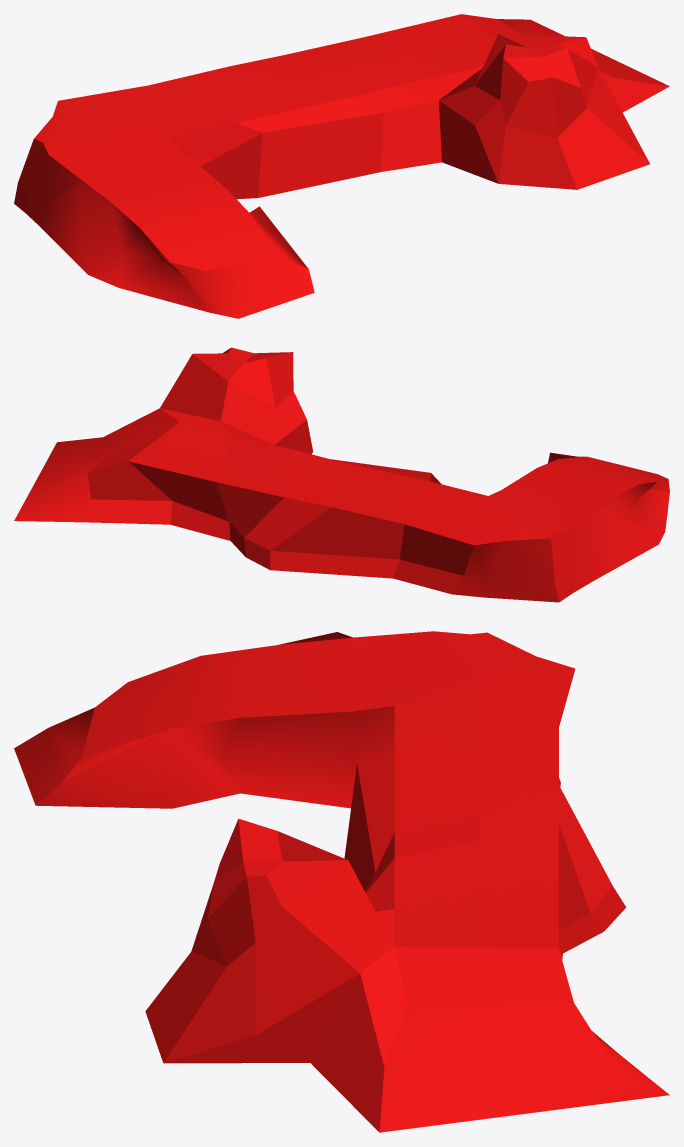
The model's file is Arena3LeftRock.FBX.
The picture shows the model from 3 angles, top to bottom: view 1: azimuth 30°, elevation 25°; view 2: azimuth 150°, elevation 25°; view 3: azimuth 270°, elevation 25°; orthographic projection. The views are drawn at different scales.
Visible parts, largest first — view 1: Arena3LeftRock; view 2: Arena3LeftRock; view 3: Arena3LeftRock.
Boxes of the visible parts, box(x1,y1,x2,y2) form: Arena3LeftRock: box(14, 14, 669, 318); Arena3LeftRock: box(14, 347, 669, 602); Arena3LeftRock: box(14, 631, 669, 1132).
Bounding box in the file's own units: 4719 × 3028 × 844.
